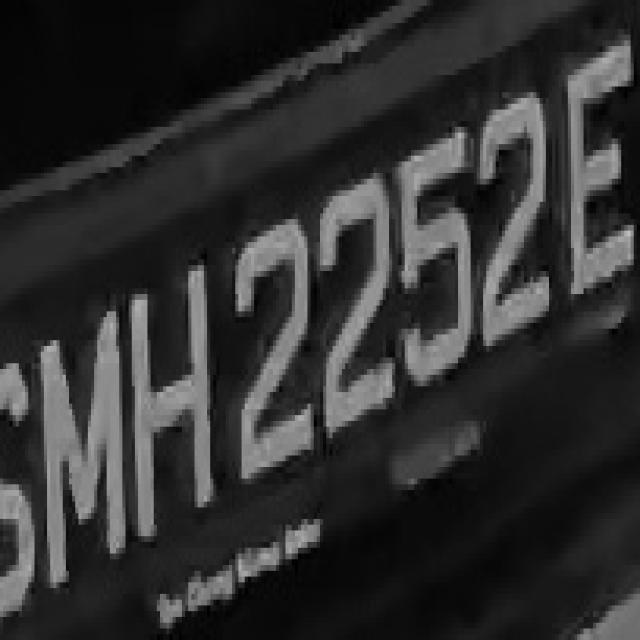2: (226, 213, 326, 490), (308, 167, 402, 444), (464, 81, 552, 363)
5: (389, 121, 480, 398)
E: (558, 34, 634, 306)
H: (119, 271, 223, 548)
M: (28, 312, 135, 606)
